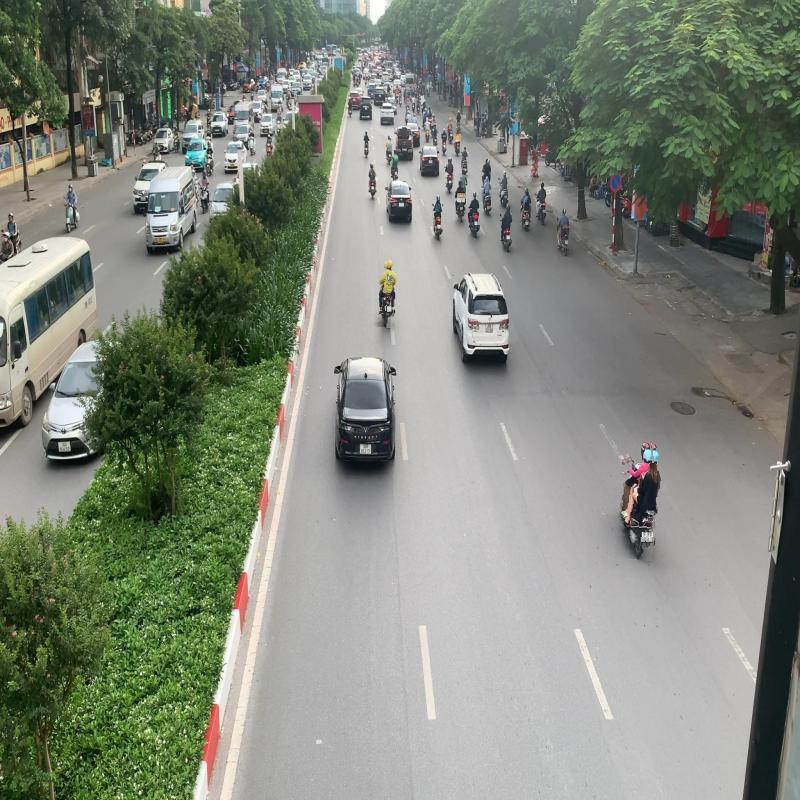helmet: (642, 448, 654, 463), (640, 441, 651, 456), (384, 260, 390, 269)
licenseplate: (645, 531, 654, 543), (386, 306, 392, 312)
motorcyclist: (618, 439, 662, 561), (376, 260, 398, 328)
